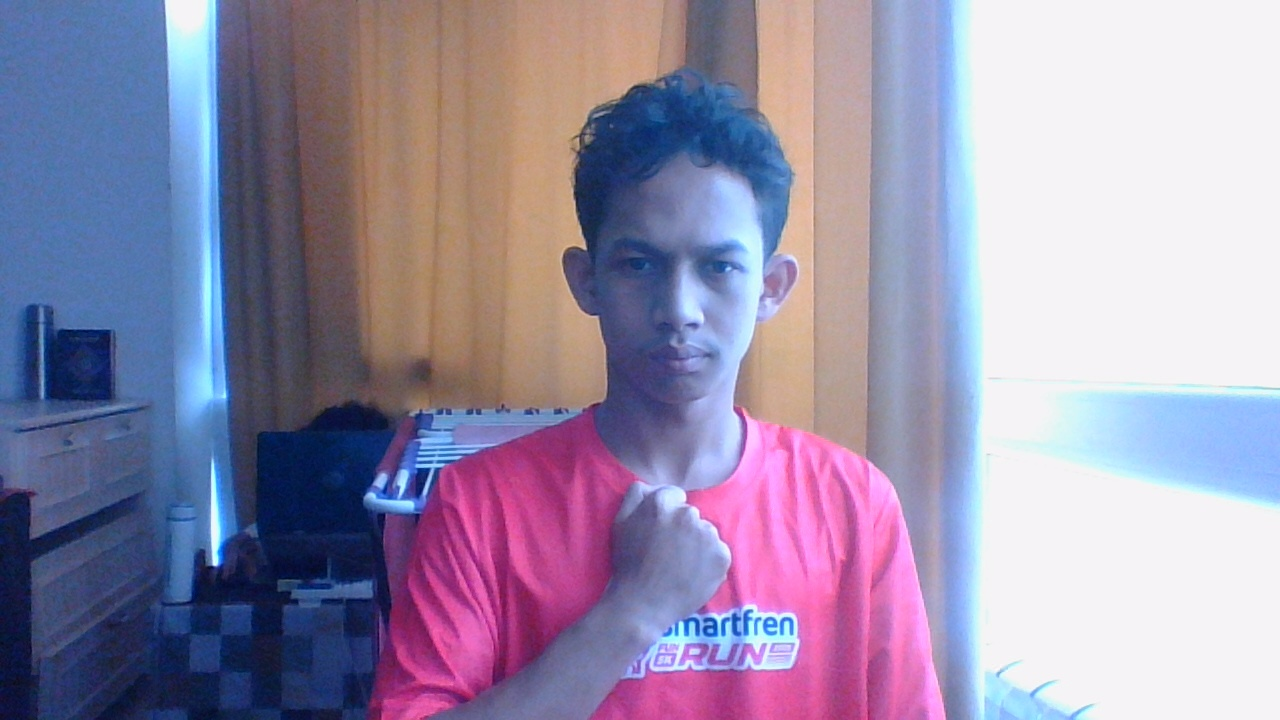sorry: (588, 461, 757, 634)
